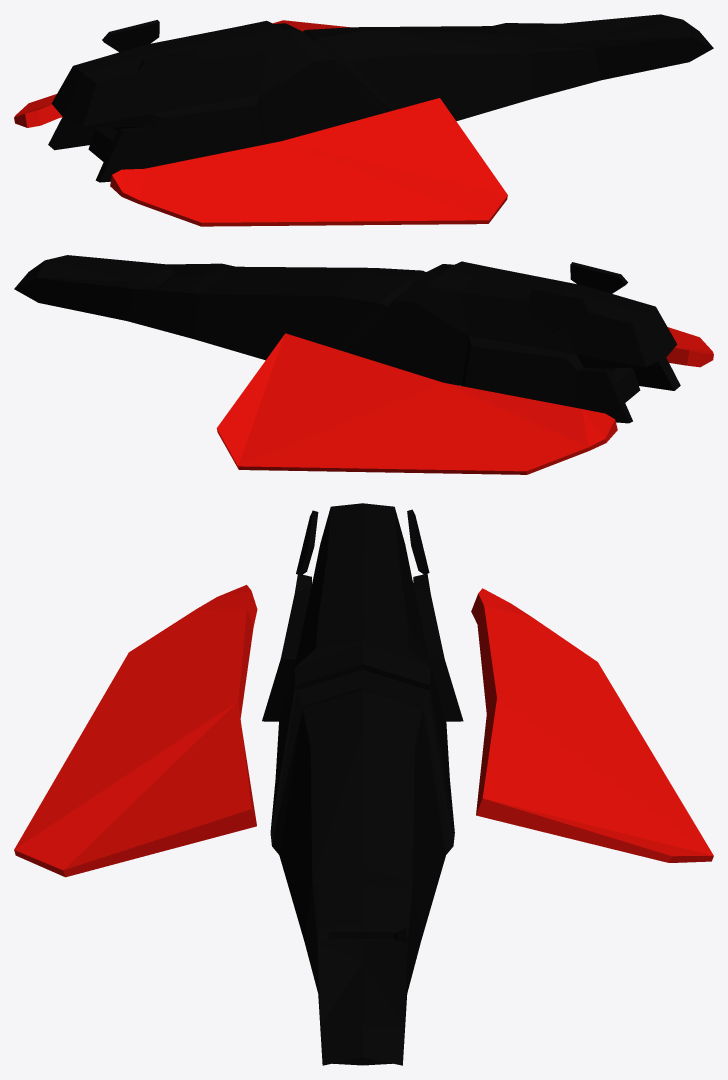
The model's file is Ship_3.fbx.
3 renders of one model, top to bottom at view 1: azimuth 30°, elevation 25°; view 2: azimuth 150°, elevation 25°; view 3: azimuth 270°, elevation 25°, orthographic. The views are drawn at different scales.
Parts seen in each view (by area): view 1: Cube, Cube.001, Cube.002; view 2: Cube, Cube.002, Cube.001; view 3: Cube, Cube.001, Cube.002.
Boxes of the visible parts, x1,y1,x2,y2 form: Cube: [48, 14, 713, 182]; Cube.001: [110, 98, 507, 226]; Cube.002: [14, 20, 349, 127]; Cube: [14, 255, 680, 423]; Cube.002: [216, 333, 617, 474]; Cube.001: [666, 327, 713, 367]; Cube: [262, 503, 463, 1065]; Cube.001: [14, 585, 257, 877]; Cube.002: [471, 588, 713, 862].
Size of the model in its own units: 1772 by 389 by 1245.
